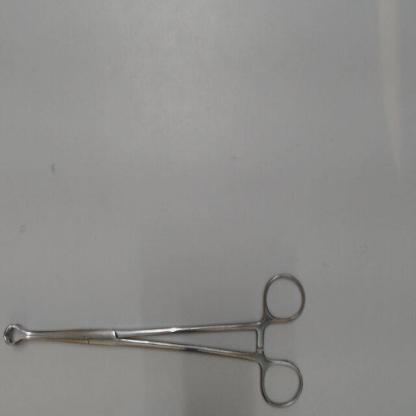8 Babcock Tissue Forceps: (1, 267, 310, 412)
